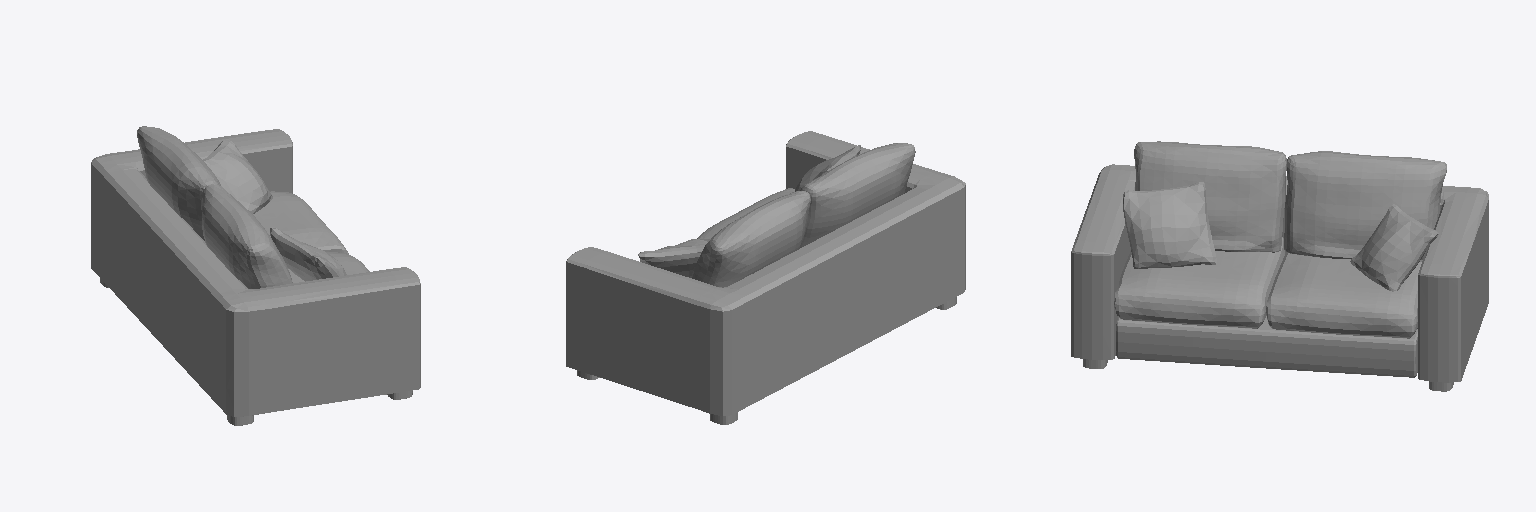
File: sofa.obj
3 views of the same model, side by side, from view 1: azimuth 30°, elevation 25°; view 2: azimuth 150°, elevation 25°; view 3: azimuth 270°, elevation 25° (orthographic).
Bounding box in the file's own units: 4.46 × 3.16 × 7.13.